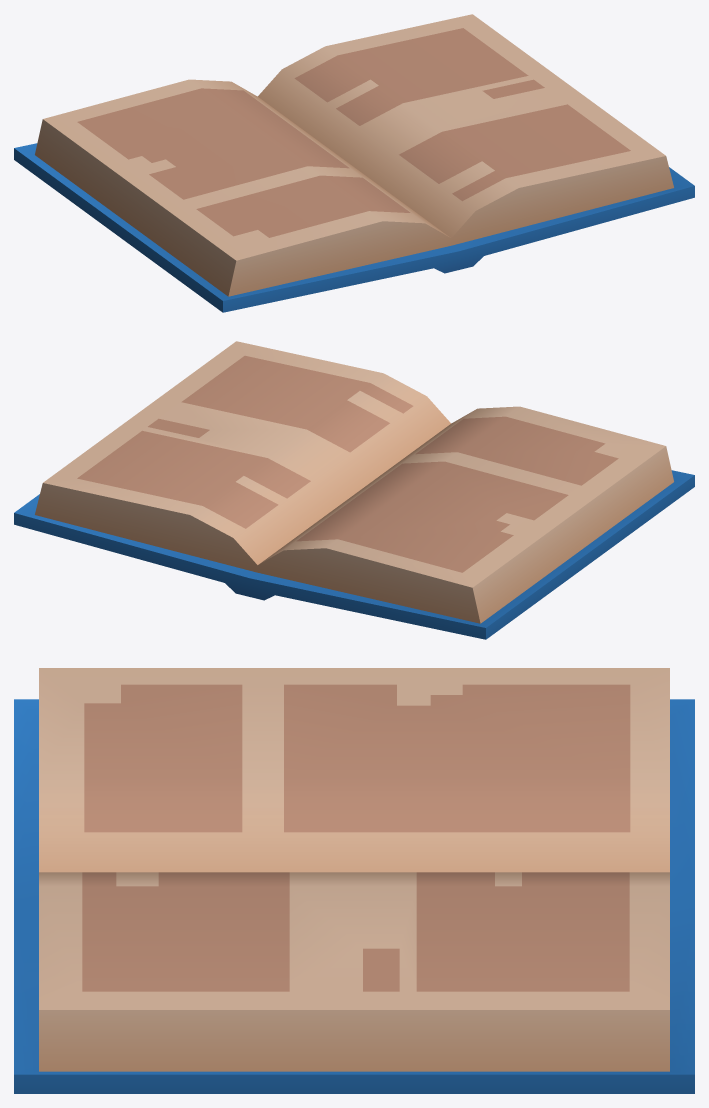
The model's file is BookOpen7.fbx.
3 views of the same model, one above another, from view 1: azimuth 30°, elevation 25°; view 2: azimuth 150°, elevation 25°; view 3: azimuth 270°, elevation 25° (orthographic). The views are drawn at different scales.
Visible parts, largest first — view 1: BookOpen7; view 2: BookOpen7; view 3: BookOpen7.
Boxes of the visible parts, x1=… form: BookOpen7: x1=14, y1=14, x2=694, y2=312; BookOpen7: x1=14, y1=341, x2=694, y2=639; BookOpen7: x1=14, y1=668, x2=694, y2=1093.
Bounding box in the file's own units: 43.62 × 5.29 × 33.45.
